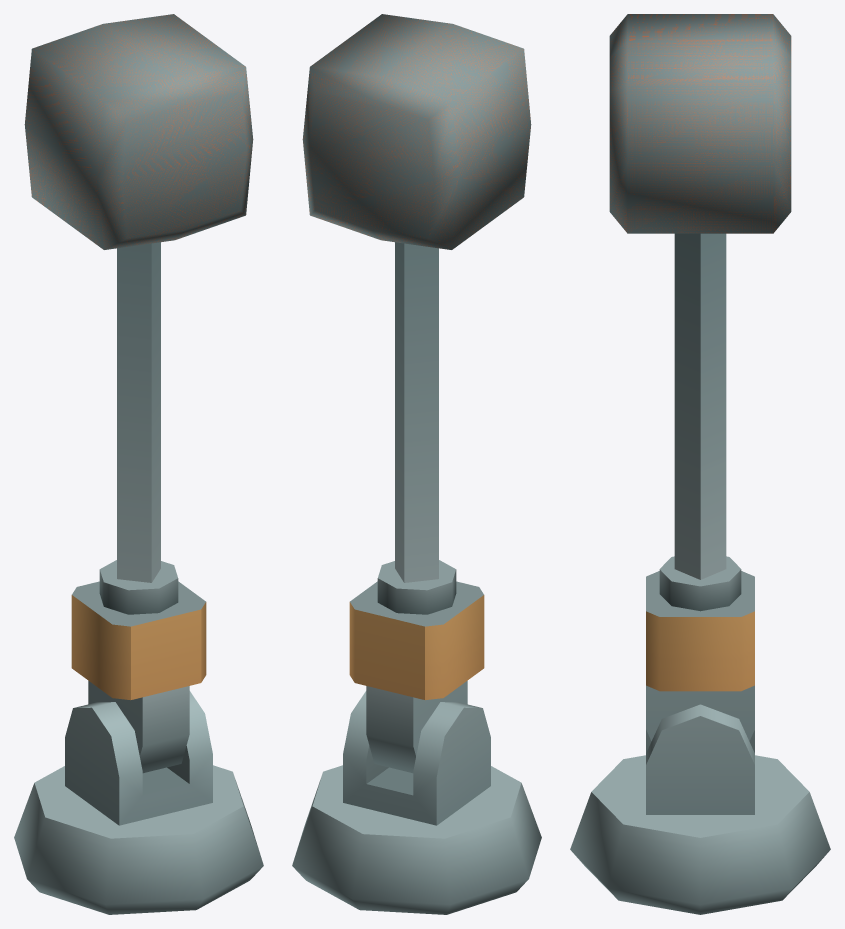
File: crane-lift.glb
3 renders of one model, left to right at view 1: azimuth 30°, elevation 25°; view 2: azimuth 150°, elevation 25°; view 3: azimuth 270°, elevation 25°, orthographic.
Visible parts, largest first — view 1: magnet, crane-lift, chain; view 2: magnet, crane-lift, chain; view 3: magnet, crane-lift, chain.
Part boxes in pixels (x1,y1,x2,y2): magnet: [14, 560, 263, 914]; crane-lift: [24, 14, 253, 249]; chain: [117, 242, 160, 582]; magnet: [292, 560, 541, 914]; crane-lift: [302, 14, 531, 249]; chain: [395, 242, 438, 582]; magnet: [570, 556, 830, 914]; crane-lift: [609, 14, 791, 233]; chain: [674, 233, 726, 579].
Size of the model in its own units: 0.7167 by 2.5 by 0.7167.
1 material, 1 textured.
